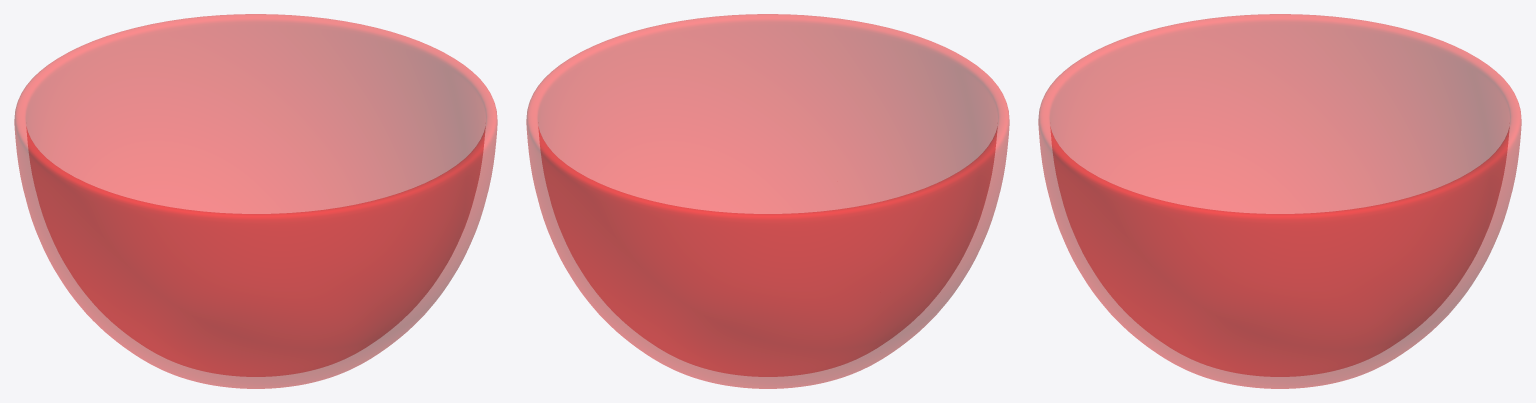
3 views of the same model, side by side, from view 1: azimuth 30°, elevation 25°; view 2: azimuth 150°, elevation 25°; view 3: azimuth 270°, elevation 25° (orthographic).
Parts seen in each view (by area): view 1: Bowl_01_0; view 2: Bowl_01_0; view 3: Bowl_01_0.
Part boxes in pixels (x1=…): Bowl_01_0: x1=14, y1=14, x2=497, y2=388; Bowl_01_0: x1=526, y1=14, x2=1009, y2=388; Bowl_01_0: x1=1038, y1=14, x2=1521, y2=388.
Bounding box in the file's own units: 0.12 × 0.065 × 0.12.
